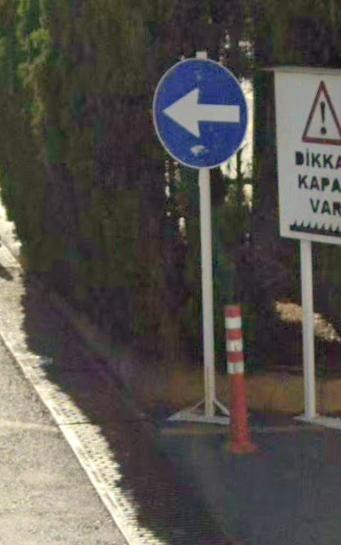turnleft: (155, 56, 241, 170)
